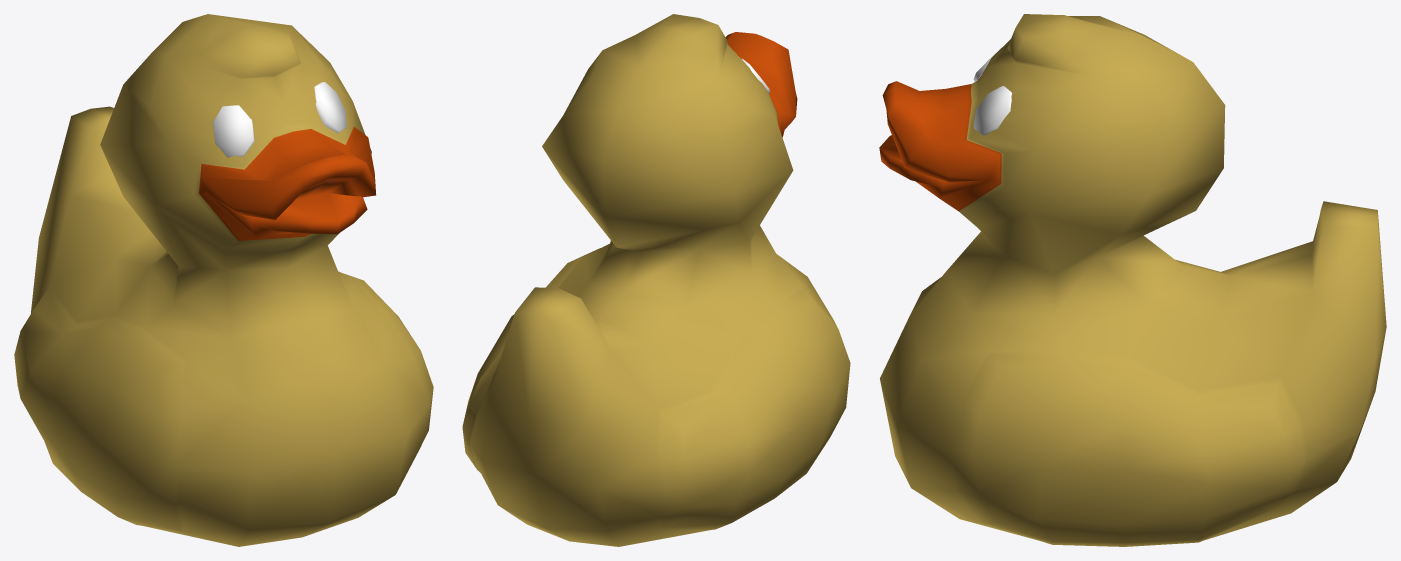
The model's file is Rubber_Duck.glb.
3 renders of one model, left to right at view 1: azimuth 30°, elevation 25°; view 2: azimuth 150°, elevation 25°; view 3: azimuth 270°, elevation 25°, orthographic. The views are drawn at different scales.
Visible parts, largest first — view 1: Rubber Duck, Rubber Duck Eyes; view 2: Rubber Duck; view 3: Rubber Duck, Rubber Duck Eyes.
Part boxes in pixels (x1,y1,x2,y2): Rubber Duck: (14,14,433,546); Rubber Duck Eyes: (212,82,346,157); Rubber Duck: (462,14,850,546); Rubber Duck: (879,14,1386,546); Rubber Duck Eyes: (973,48,1011,135).
Bounding box in the file's own units: 2.58 × 3.61 × 3.46.
